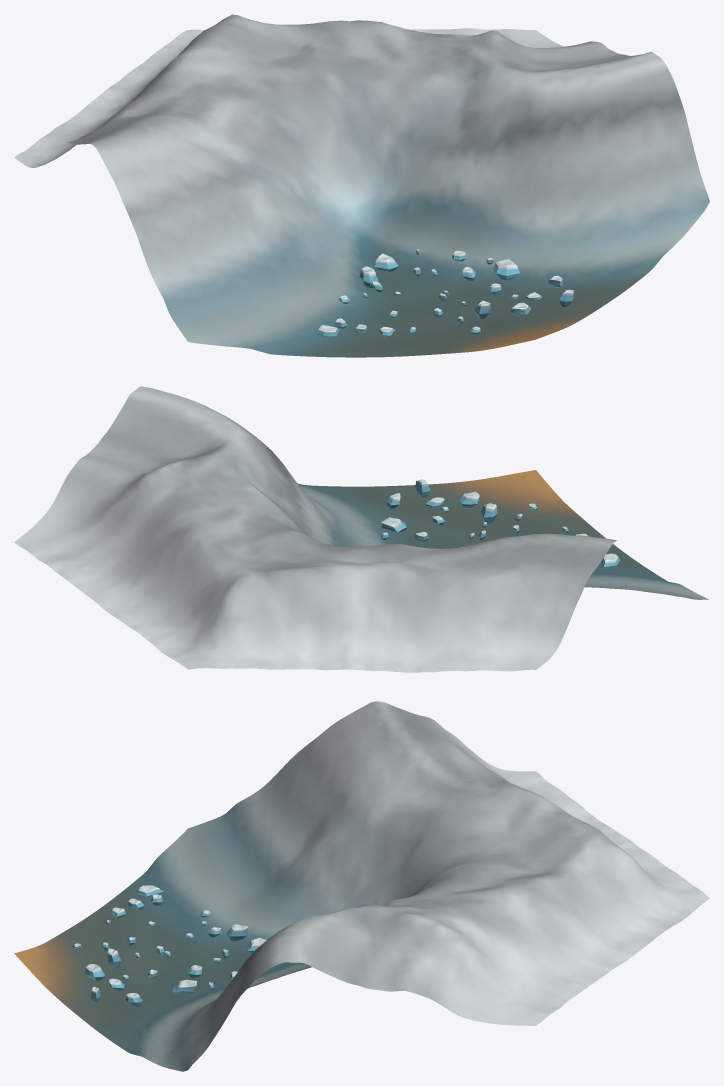
The model's file is costa_+01_-05.glb.
3 renders of one model, top to bottom at view 1: azimuth 30°, elevation 25°; view 2: azimuth 150°, elevation 25°; view 3: azimuth 270°, elevation 25°, orthographic.
Parts seen in each view (by area): view 1: terrain, Formações costeiras; view 2: terrain, Formações costeiras; view 3: terrain, Formações costeiras.
Part boxes in pixels (x1,y1,x2,y2): terrain: (14, 14, 709, 357); Formações costeiras: (314, 249, 574, 337); terrain: (14, 386, 709, 672); Formações costeiras: (381, 479, 620, 567); terrain: (14, 701, 709, 1071); Formações costeiras: (73, 885, 266, 1006).
Bounding box in the file's own units: 4330 × 1174 × 5000.
Materials: 1 (1 with a texture image).
